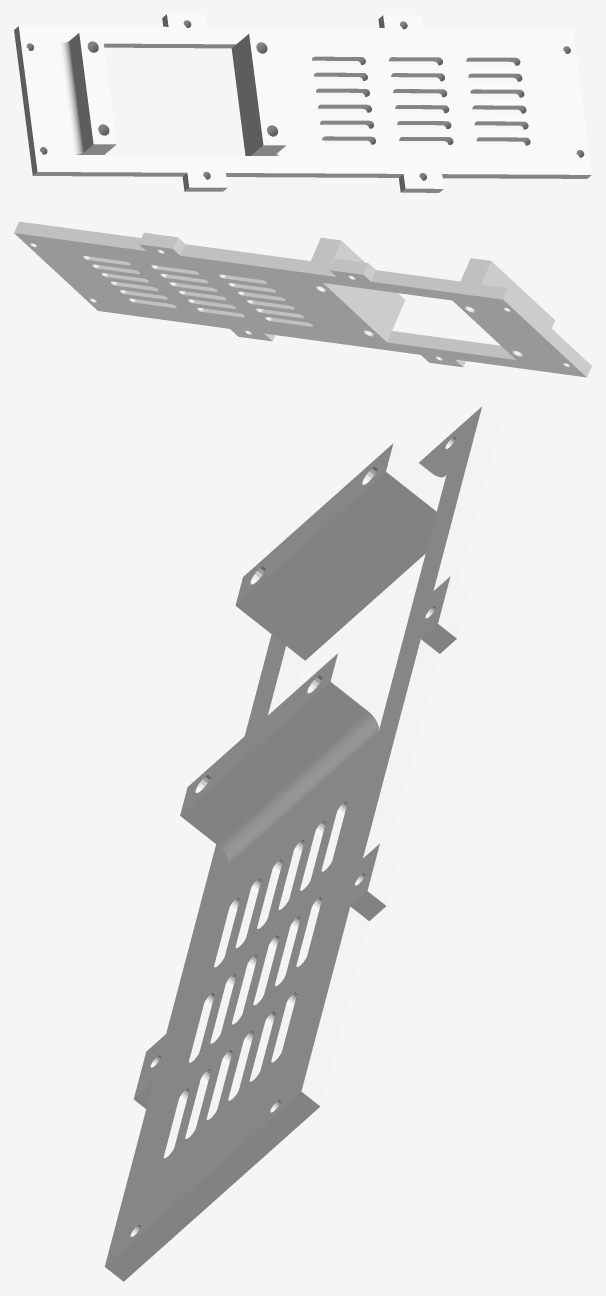
3 views of the same model, one above another, from view 1: azimuth 30°, elevation 25°; view 2: azimuth 150°, elevation 25°; view 3: azimuth 270°, elevation 25° (orthographic). The views are drawn at different scales.
Parts seen in each view (by area): view 1: node_id3; view 2: node_id3; view 3: node_id3.
Part boxes in pixels (x1,y1,x2,y2): node_id3: (14, 14, 591, 192); node_id3: (14, 221, 591, 377); node_id3: (104, 406, 501, 1281).
Bounding box in the file's own units: 0.5283 × 0.1912 × 0.1681.
1 material, 1 textured.
